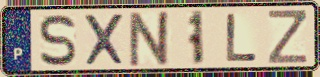1: (186, 8, 207, 68)
L: (225, 12, 260, 64)
N: (127, 9, 174, 69)
S: (38, 12, 78, 68)
X: (81, 12, 127, 67)
Z: (267, 8, 310, 66)
